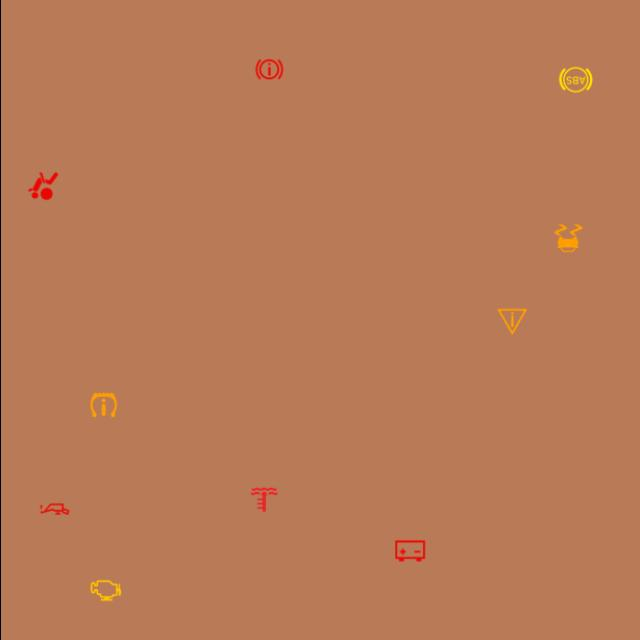Anti Lock Braking System: (557, 62, 593, 98)
Braking System Issue: (250, 52, 286, 88)
Charging System Issue: (391, 533, 427, 569)
Check Engine: (87, 572, 123, 608)
Electronic Stability Problem -ESP-: (550, 220, 586, 256)
Engine Overheating Warning Light: (245, 482, 281, 518)
Low Engine Oil Warning Light: (36, 490, 72, 528)
Low Tire Pressure Warning Light: (84, 386, 120, 424)
Master warning light: (494, 304, 530, 339)
SRS-Airbag: (24, 168, 60, 204)
